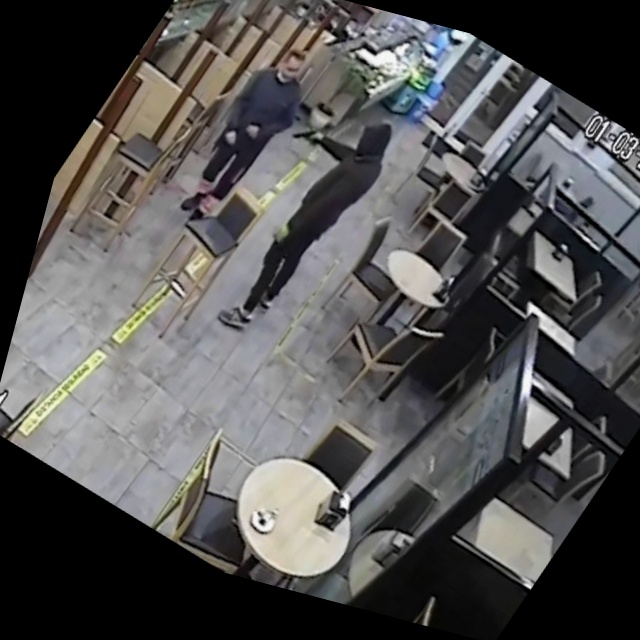gun: (277, 106, 336, 165)
